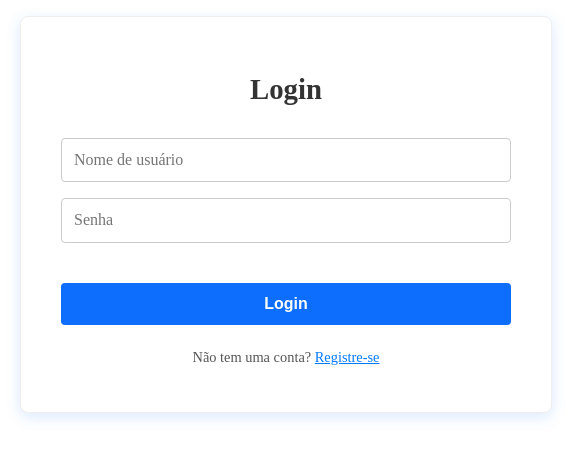
Página Login › deve exibir mensagem de erro se as credenciais estiverem incorretas
Type "wronguser" into the field with placeholder "Nome de usuário".
click(286, 160); type("wronguser")  # box [61,138,511,182]
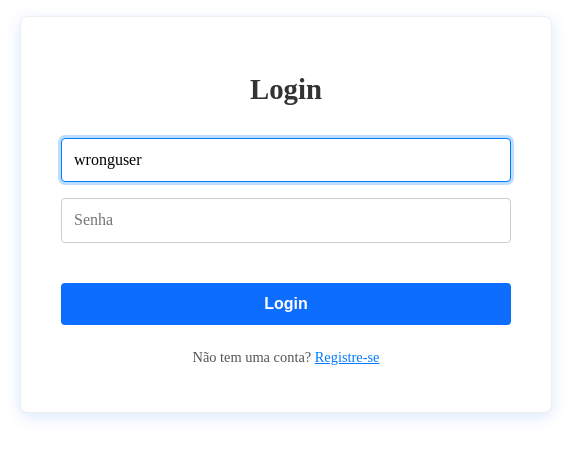
Type "wrongpassword" into the password field with placeholder "Senha".
click(286, 220); type("wrongpassword")  # box [61,198,511,243]
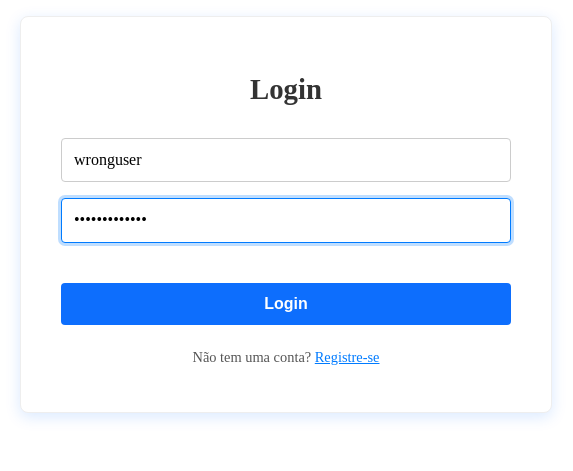
Click the button "Login".
click(286, 304)  # box [61,283,511,325]
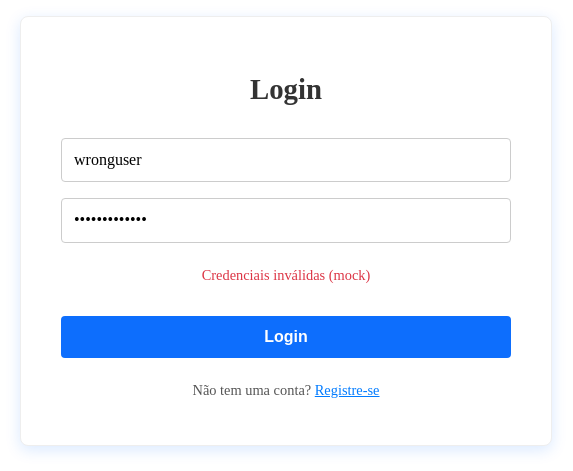
Expected: the text "Credenciais inválidas (mock)" is shown, [202,267,370,283]
